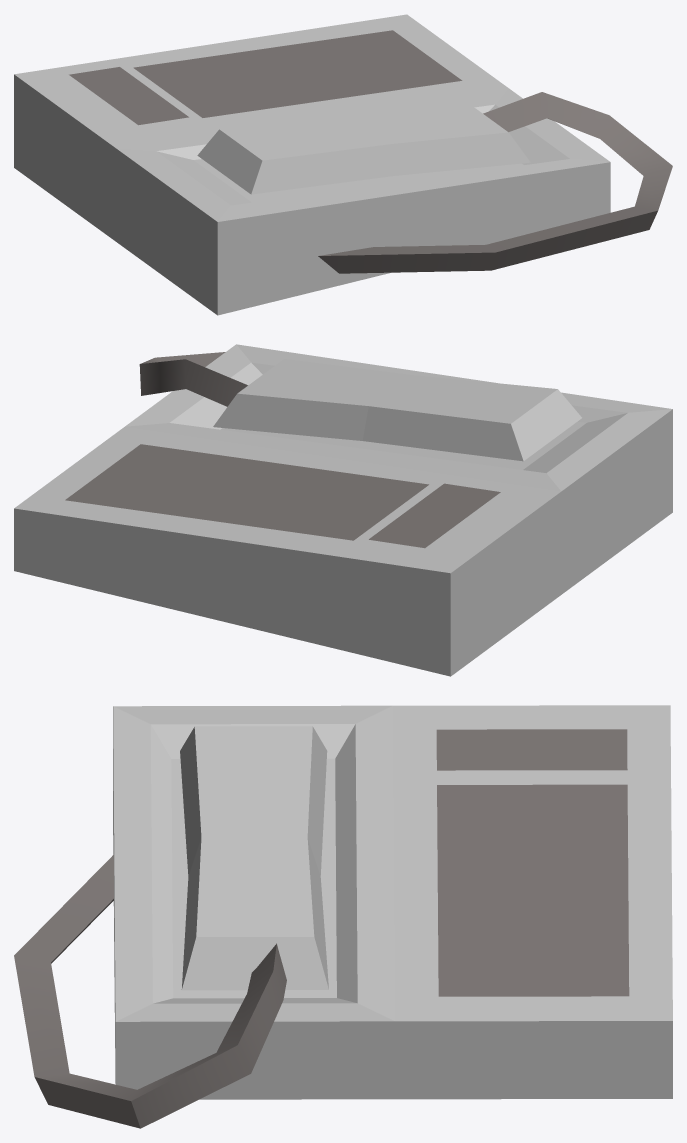
Rendered from SM_Phone_01.fbx.
3 renders of one model, top to bottom at view 1: azimuth 30°, elevation 25°; view 2: azimuth 150°, elevation 25°; view 3: azimuth 270°, elevation 25°, orthographic. The views are drawn at different scales.
Visible parts, largest first — view 1: SM_Phone_01; view 2: SM_Phone_01; view 3: SM_Phone_01.
Boxes of the visible parts, left/top/right/bottom form: SM_Phone_01: left=14, top=14, right=672, bottom=315; SM_Phone_01: left=14, top=344, right=672, bottom=676; SM_Phone_01: left=14, top=705, right=672, bottom=1128.
Bounding box in the file's own units: 36.63 × 8.7 × 32.76.
1 material, 1 textured.
